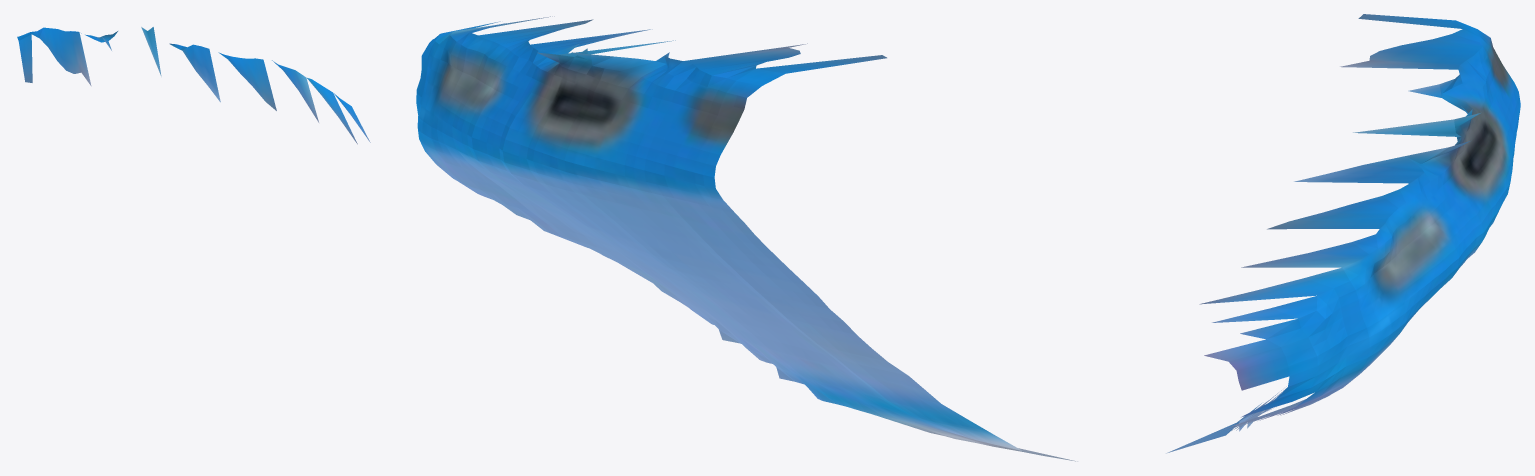
File: observed-surface.glb
The picture shows the model from 3 angles, left to right: view 1: azimuth 30°, elevation 25°; view 2: azimuth 150°, elevation 25°; view 3: azimuth 270°, elevation 25°; orthographic projection. The views are drawn at different scales.
Visible parts, largest first — view 1: geometry_0; view 2: geometry_0; view 3: geometry_0.
Boxes of the visible parts, bbox=[...] form: geometry_0: bbox=[17, 27, 370, 144]; geometry_0: bbox=[416, 16, 1077, 461]; geometry_0: bbox=[1166, 14, 1520, 453].
Size of the model in its own units: 0.5061 by 0.4485 by 0.3912.
1 material, 1 textured.
